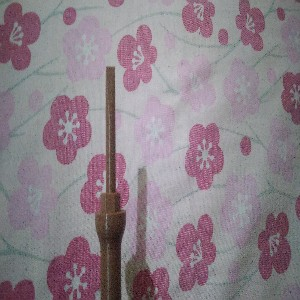obeng: (94, 64, 127, 300)
